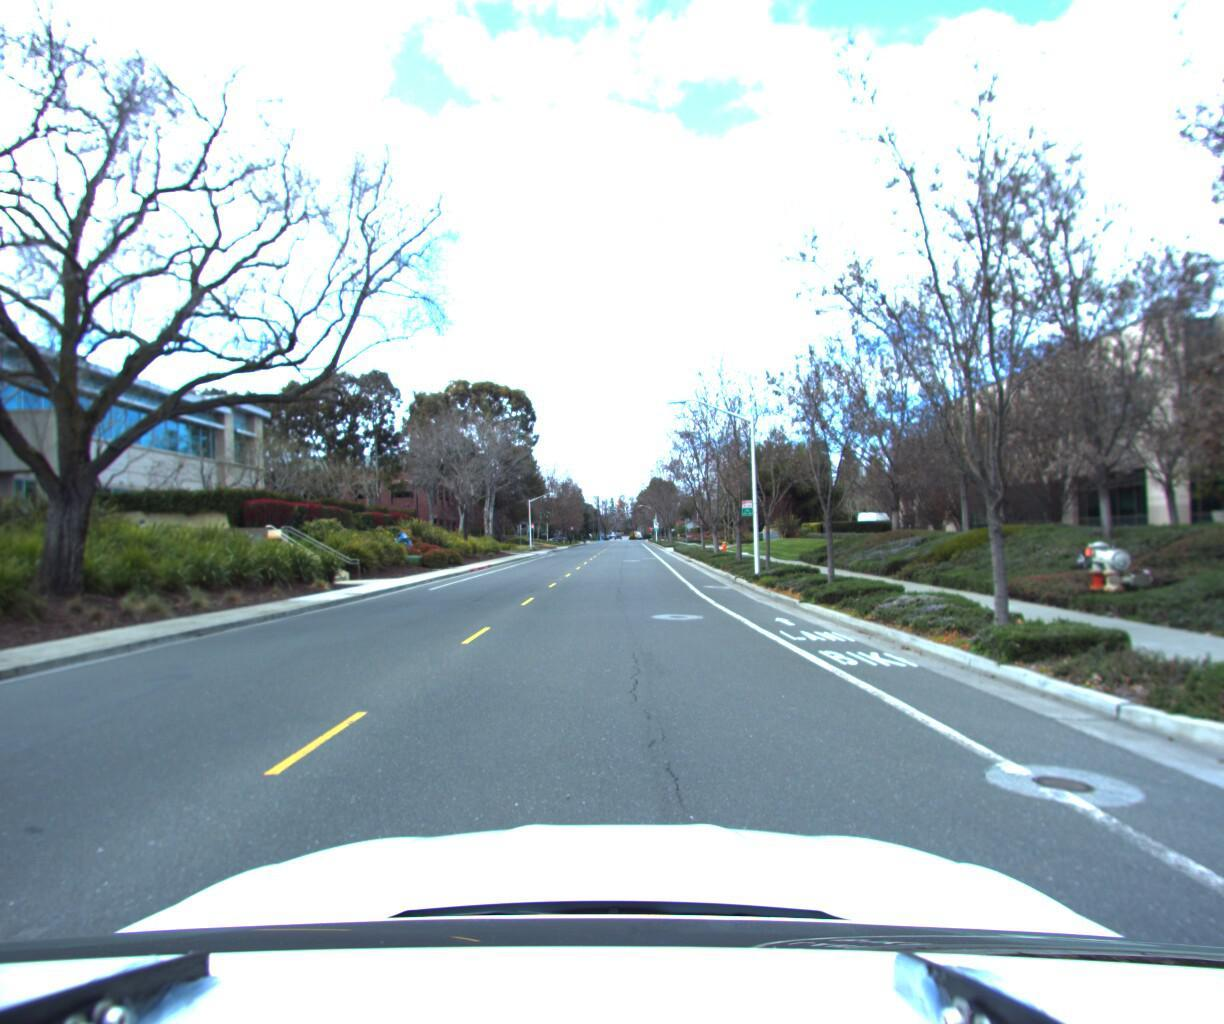car: (853, 507, 906, 539)
